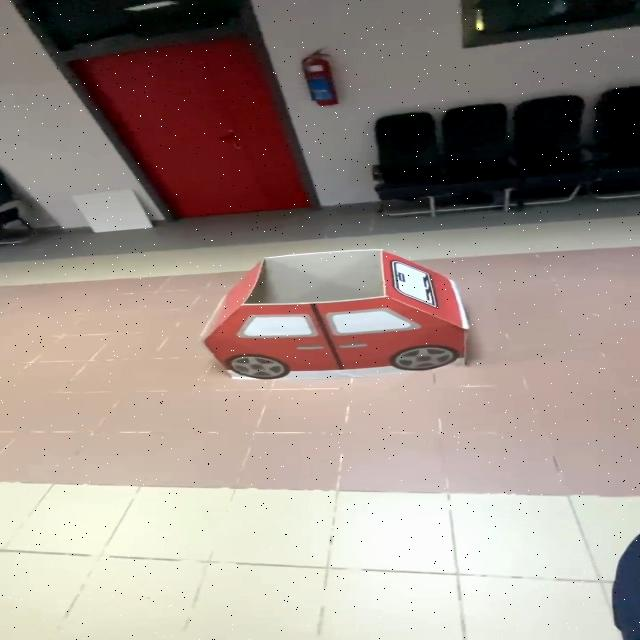red_car: (176, 234, 489, 403)
